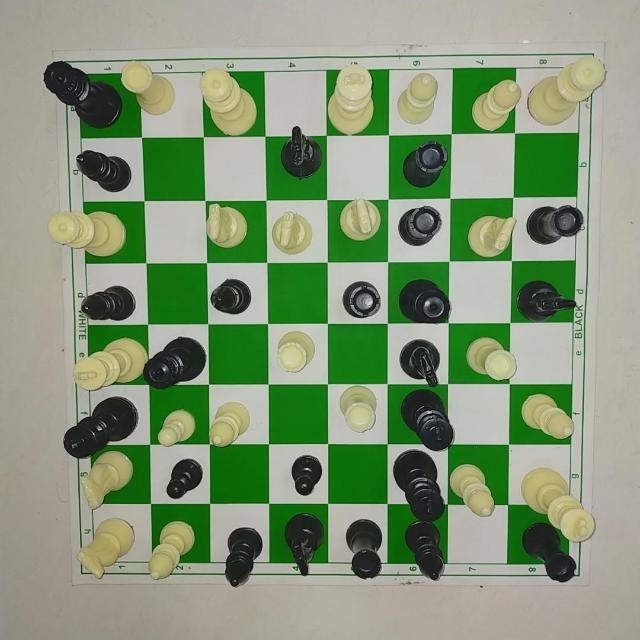black-bishop: (400, 512, 448, 584), (222, 525, 265, 593), (73, 148, 136, 194), (80, 282, 136, 325), (209, 276, 250, 320)
black-king: (56, 392, 150, 464), (388, 445, 458, 527), (395, 384, 461, 455)
black-knight: (276, 502, 328, 580), (516, 278, 578, 325), (278, 125, 326, 183), (400, 337, 444, 387)
black-pawn: (159, 448, 209, 506), (285, 443, 329, 498)
black-queen: (36, 55, 130, 135), (393, 269, 455, 332), (142, 335, 208, 394)
black-rook: (517, 517, 585, 588), (385, 130, 456, 195), (335, 508, 393, 586), (522, 197, 591, 252), (396, 203, 446, 253), (342, 278, 384, 319)
white-bishop: (514, 379, 583, 453), (444, 453, 503, 522), (144, 515, 201, 582), (468, 73, 526, 136), (393, 67, 441, 129), (204, 397, 253, 453)
white-king: (513, 456, 604, 550), (68, 333, 150, 397), (324, 61, 377, 138)
white-knight: (76, 440, 137, 518), (78, 515, 140, 580), (457, 204, 518, 259), (334, 188, 383, 250), (202, 201, 252, 251), (271, 209, 314, 258)
white-pawn: (150, 403, 197, 453)
white-queen: (524, 56, 608, 130), (47, 207, 128, 259), (200, 64, 259, 133)
white-rook: (118, 57, 180, 115), (465, 333, 517, 381), (273, 327, 321, 377), (337, 382, 382, 434)
